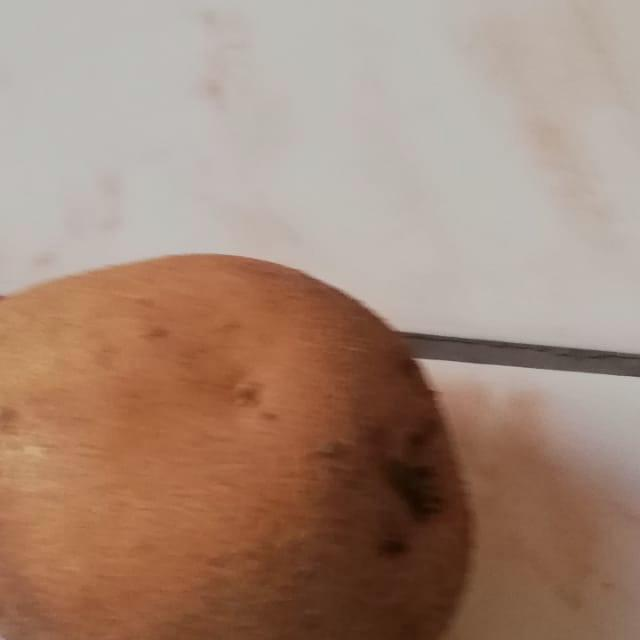potato: (0, 239, 498, 640)
